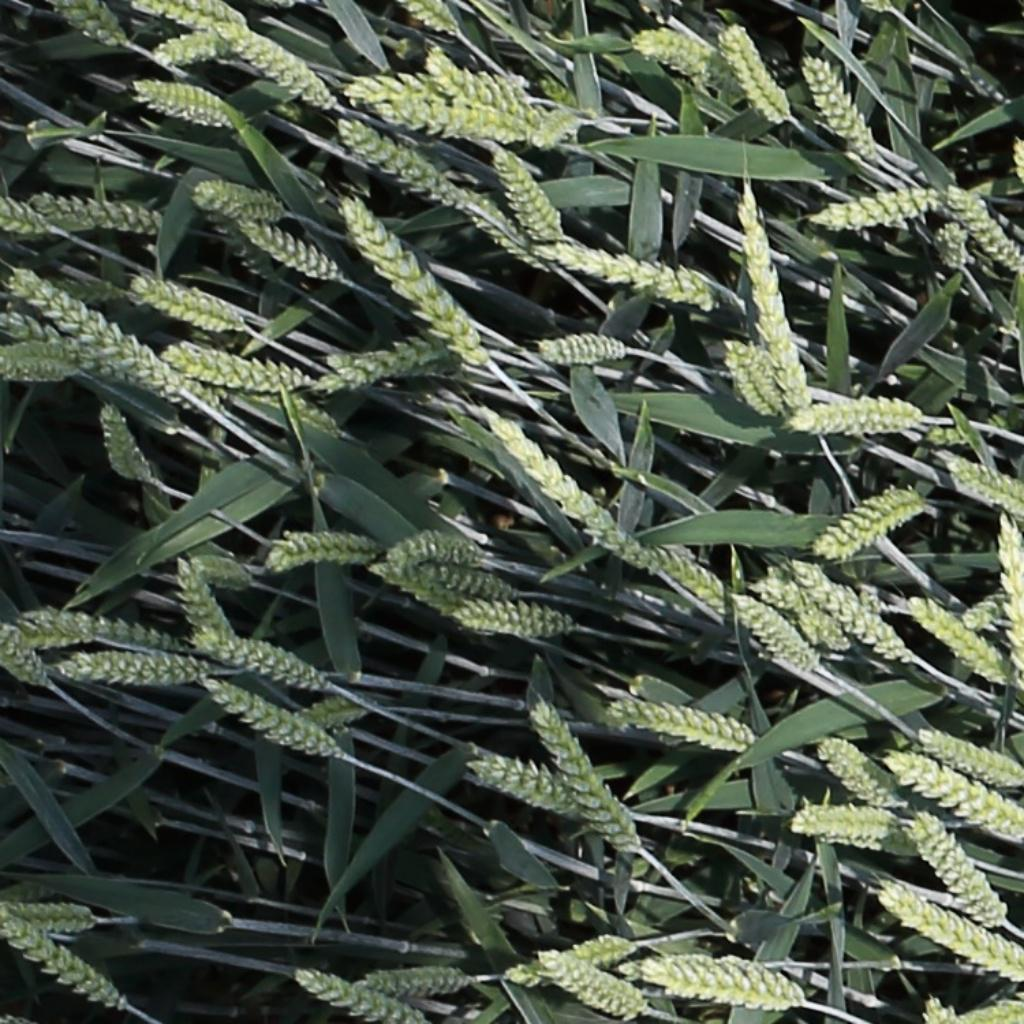0-0: (468, 396, 655, 575), (335, 191, 488, 364), (10, 268, 194, 405), (733, 178, 814, 407), (2, 311, 192, 407), (527, 699, 644, 853), (880, 887, 1024, 990), (887, 749, 1024, 846), (544, 238, 716, 312), (0, 912, 126, 1013), (788, 560, 910, 663), (907, 811, 1009, 928), (200, 677, 342, 761), (335, 118, 466, 207), (635, 951, 810, 1014), (213, 24, 328, 114), (313, 328, 466, 392), (906, 598, 1011, 688), (347, 71, 532, 120), (797, 51, 877, 161), (756, 568, 854, 656), (539, 948, 657, 1021), (443, 190, 550, 270), (166, 342, 318, 398), (486, 139, 566, 243), (718, 19, 793, 128), (609, 701, 757, 756), (189, 633, 326, 692), (650, 537, 742, 623), (128, 275, 251, 338), (814, 490, 922, 561), (944, 180, 1024, 273), (28, 189, 166, 241), (420, 50, 528, 116), (167, 552, 237, 652), (368, 99, 535, 139), (507, 935, 635, 987), (729, 592, 813, 671), (293, 968, 413, 1022), (241, 218, 341, 281), (815, 732, 894, 811), (812, 186, 942, 234), (197, 197, 271, 279), (467, 756, 572, 813), (918, 731, 1024, 787), (48, 649, 207, 686), (787, 396, 925, 437), (129, 81, 242, 131), (66, 610, 199, 652), (368, 561, 465, 617), (934, 450, 1024, 509), (722, 338, 785, 419), (242, 390, 342, 441), (261, 530, 374, 573), (94, 401, 151, 484), (451, 600, 582, 636), (630, 25, 709, 83), (998, 513, 1024, 673), (785, 807, 910, 839), (132, 0, 252, 32), (324, 348, 456, 377), (387, 528, 484, 566), (294, 687, 383, 728), (13, 602, 89, 650), (148, 26, 238, 65), (0, 622, 49, 692), (54, 0, 125, 48), (0, 897, 100, 931), (415, 565, 512, 599), (536, 332, 625, 369), (0, 344, 79, 385), (811, 832, 923, 860), (191, 182, 277, 218), (363, 967, 473, 995), (534, 100, 583, 151), (959, 588, 1005, 634), (184, 555, 248, 587), (404, 0, 457, 35), (936, 214, 966, 275), (952, 999, 1022, 1024), (0, 199, 50, 234), (920, 989, 955, 1024)
